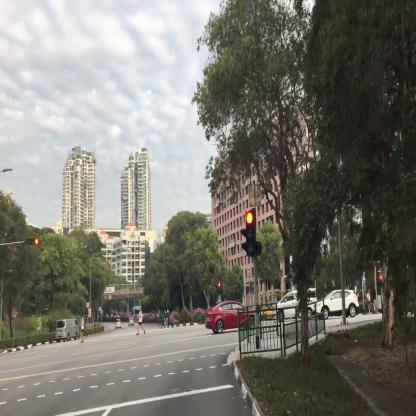red_traffic_light: (245, 211, 255, 256), (27, 238, 38, 244)
